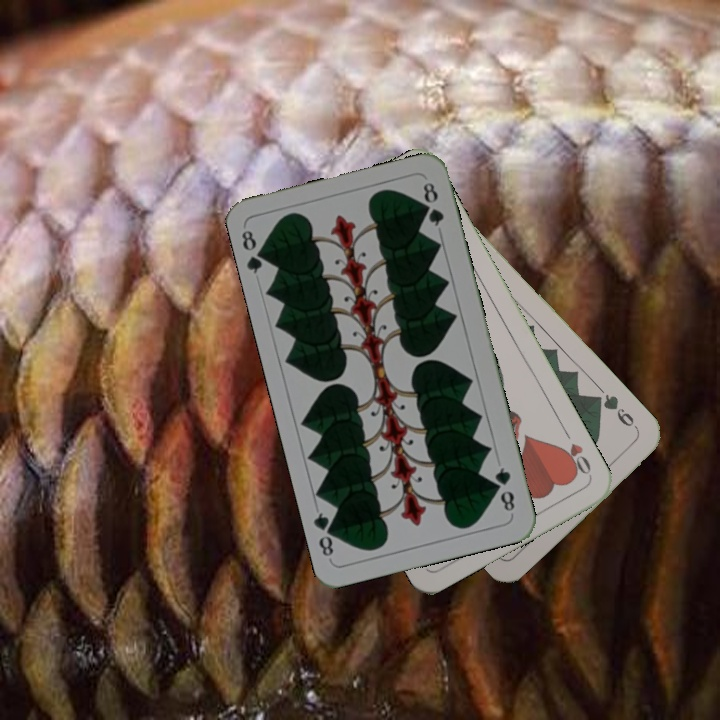G8: (237, 226, 271, 276), (490, 463, 518, 514)
G9: (591, 389, 642, 434)
HO: (557, 424, 594, 479)
